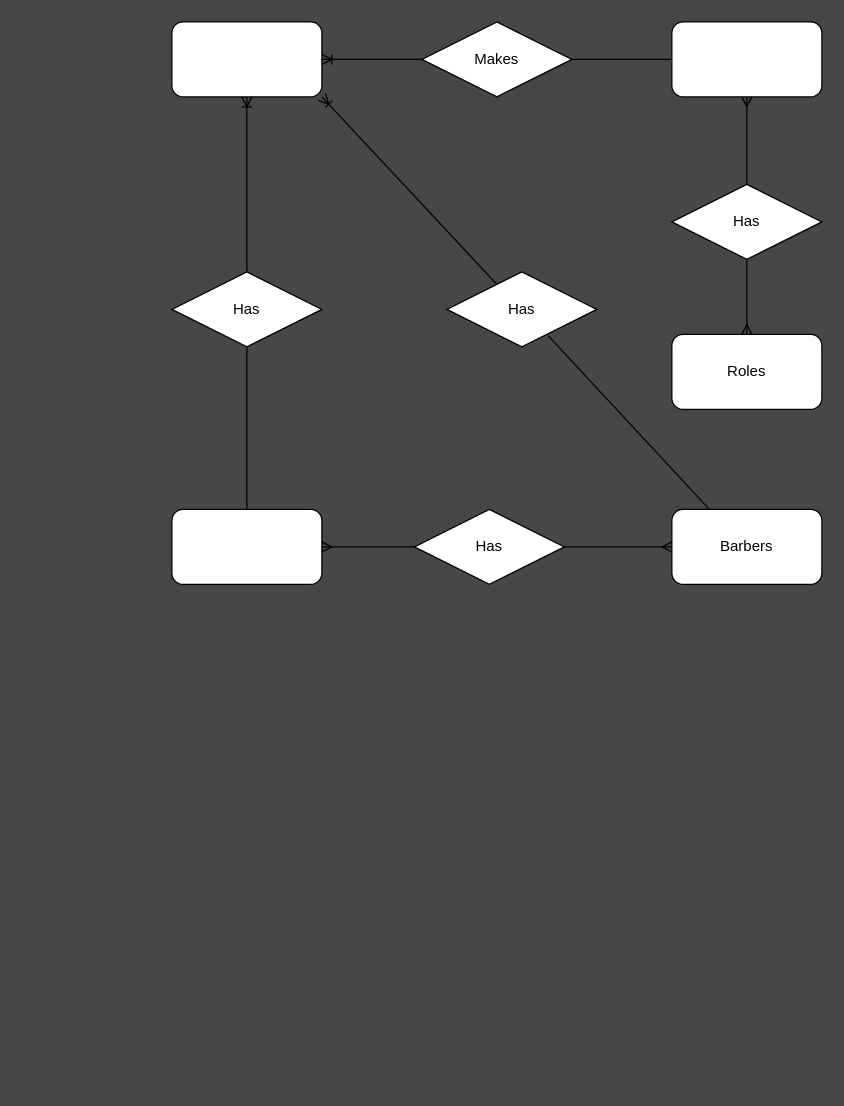
This 844x1106 diagram has some shape labels left out. The centre of each missing label's shape, as x and y in pixels:
Bookings: the point at 246,59
Services: the point at 246,546
Users: the point at 746,59
